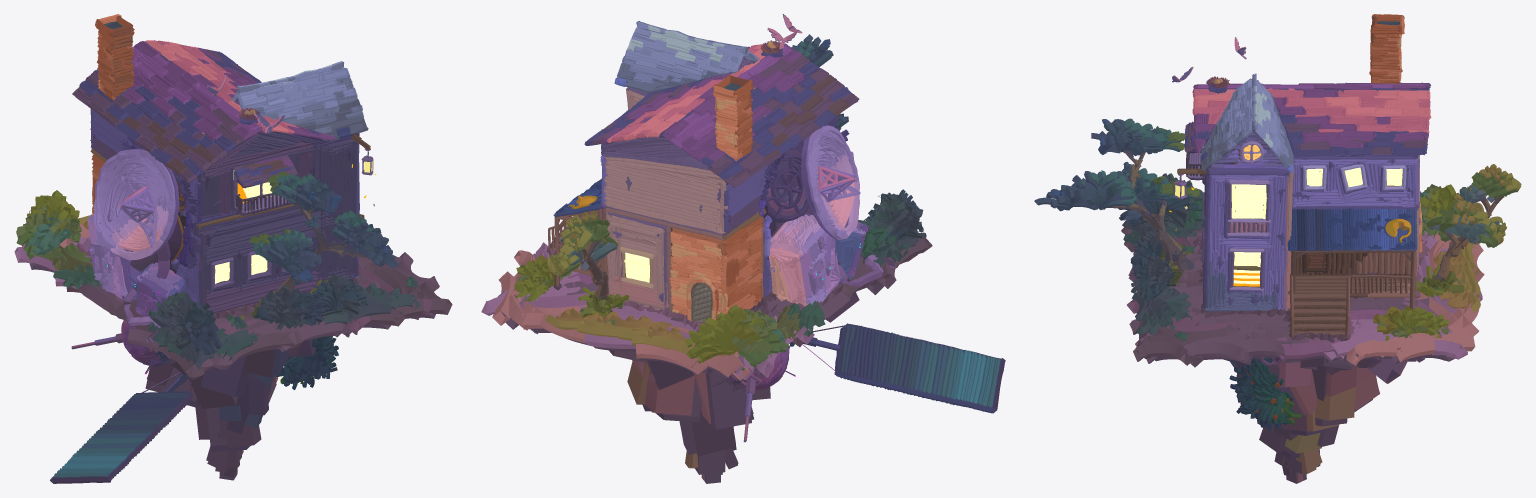
Rendered from scene.opt.glb.
3 views of the same model, side by side, from view 1: azimuth 30°, elevation 25°; view 2: azimuth 150°, elevation 25°; view 3: azimuth 270°, elevation 25° (orthographic). The views are drawn at different scales.
Visible parts, largest first — view 1: Object_4, Object_171; view 2: Object_4, Object_171; view 3: Object_4, Object_171.
Boxes of the visible parts, bbox=[...] form: Object_4: bbox=[14, 14, 452, 483]; Object_171: bbox=[91, 161, 374, 382]; Object_4: bbox=[481, 14, 1005, 483]; Object_171: bbox=[624, 87, 860, 282]; Object_4: bbox=[1034, 14, 1521, 483]; Object_171: bbox=[1174, 167, 1402, 286].
Bounding box in the file's own units: 2.6 × 2.79 × 2.87.
Materials: 5 (5 with a texture image).
